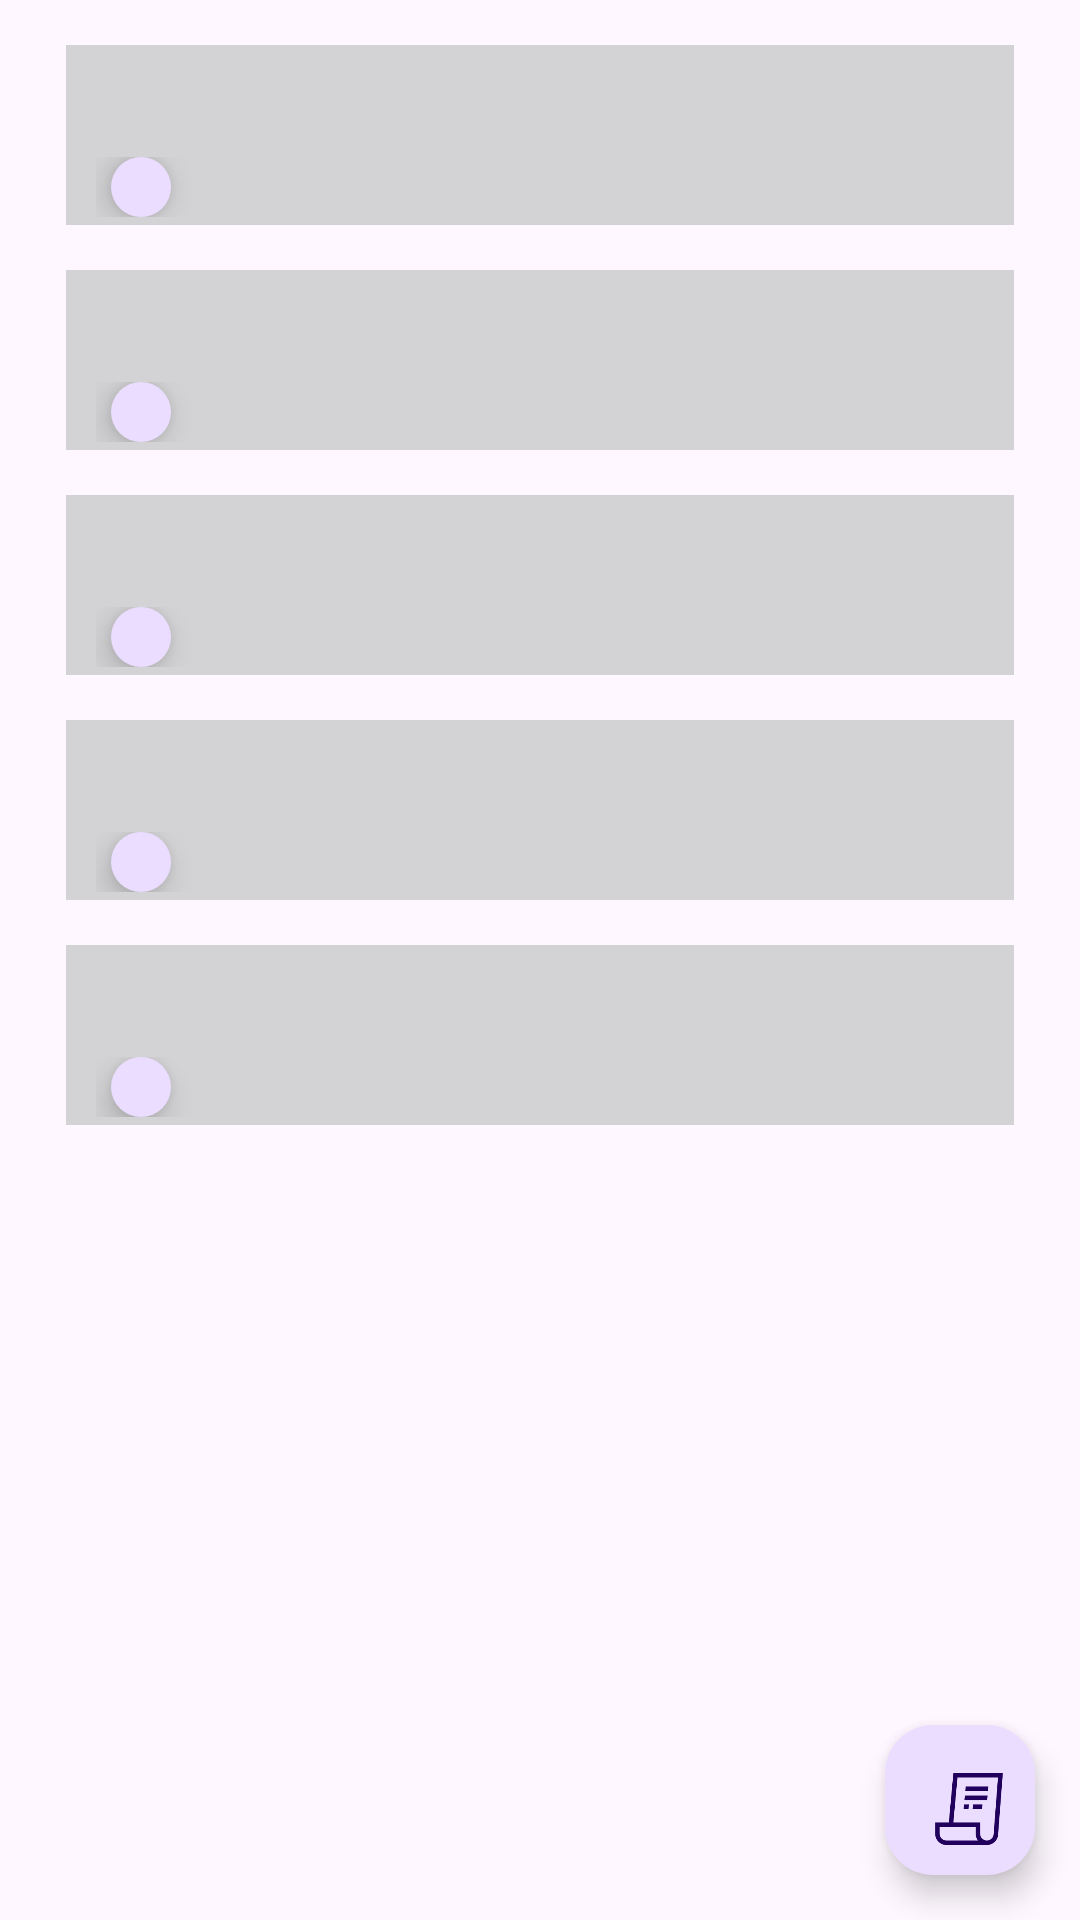

Where to tap for icons on this 1080px×1920px app screen, as (x,y):
add note: (960,1800)
